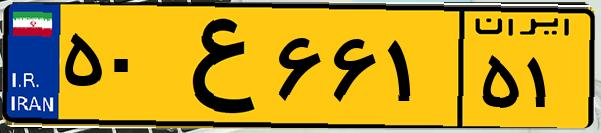0: (110, 28, 158, 98)
1: (385, 28, 445, 110), (525, 38, 570, 115)
5: (57, 26, 110, 100), (475, 38, 525, 113)
6: (270, 28, 330, 110), (330, 28, 385, 110)
ع: (158, 12, 270, 120)
